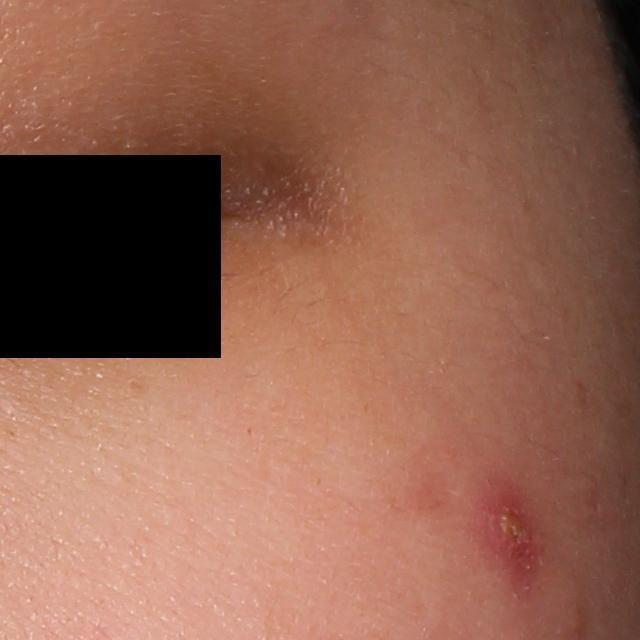papule: (485, 490, 532, 560)
